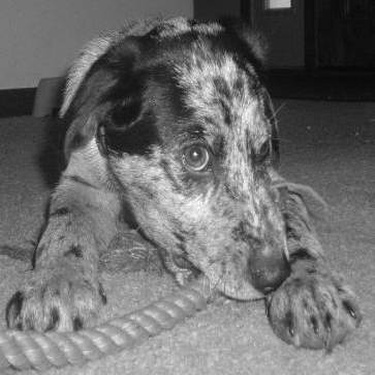dog: (6, 15, 372, 356)
